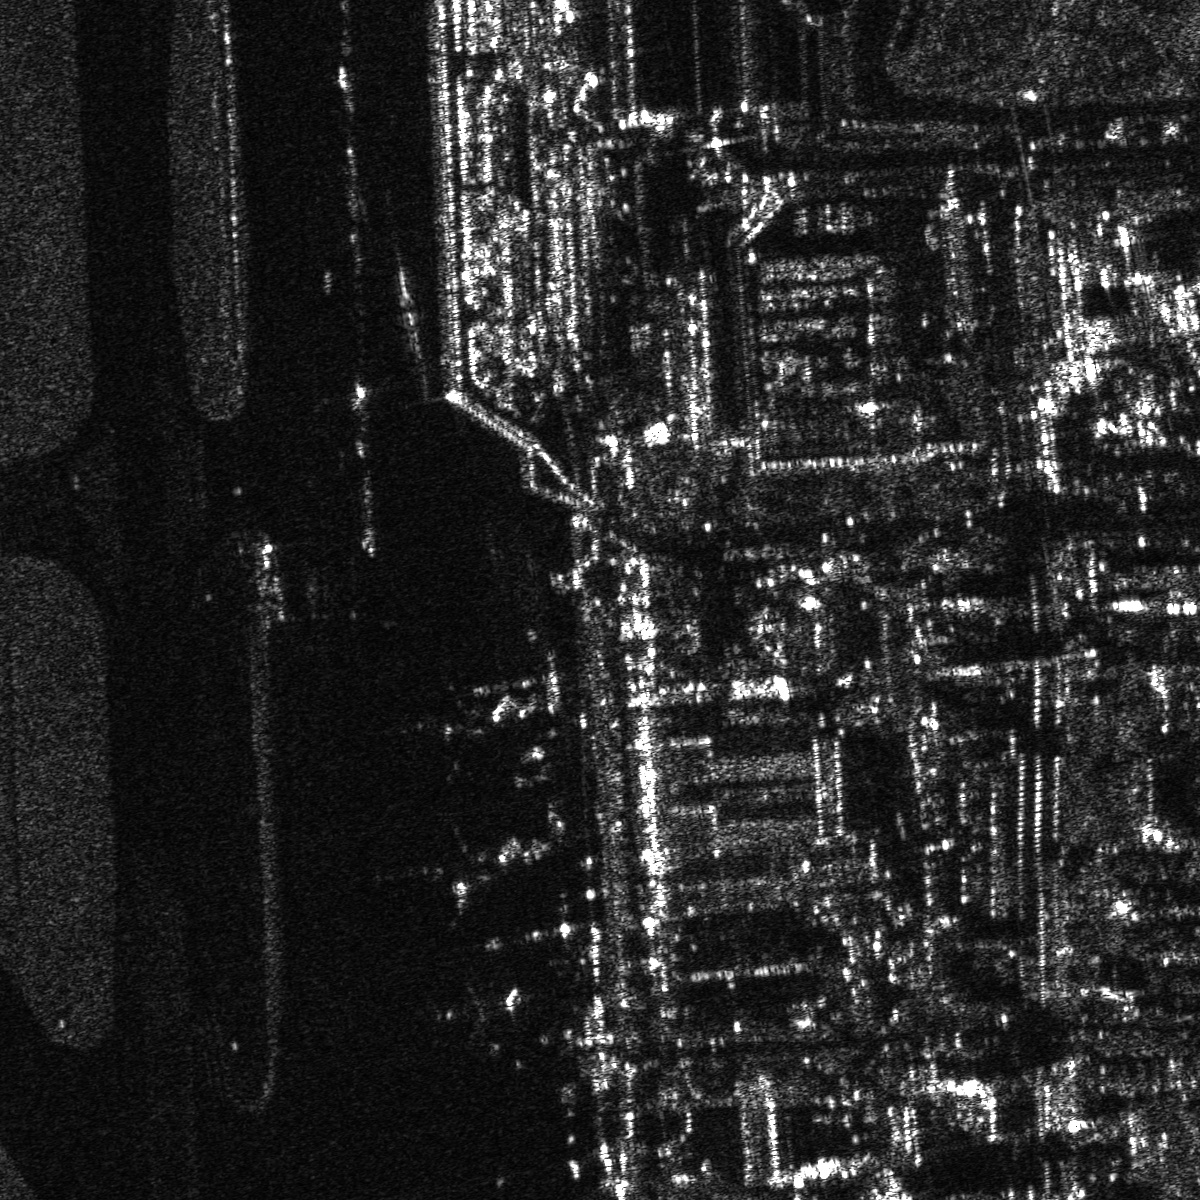ARJ21: (412, 811, 573, 920)
other: (443, 641, 575, 766), (434, 981, 520, 1051)
